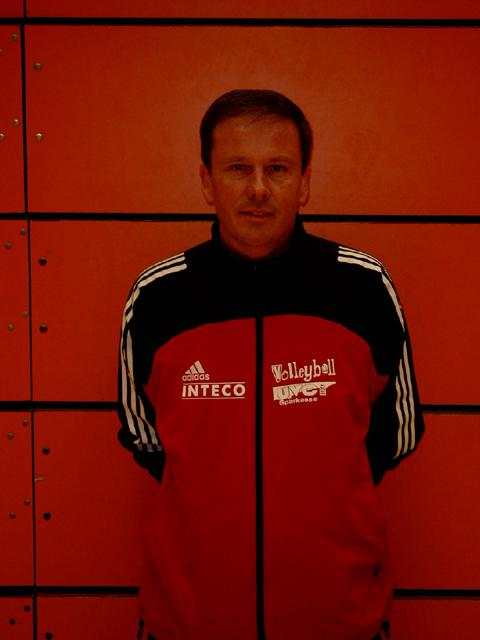Person: (112, 88, 429, 640)
